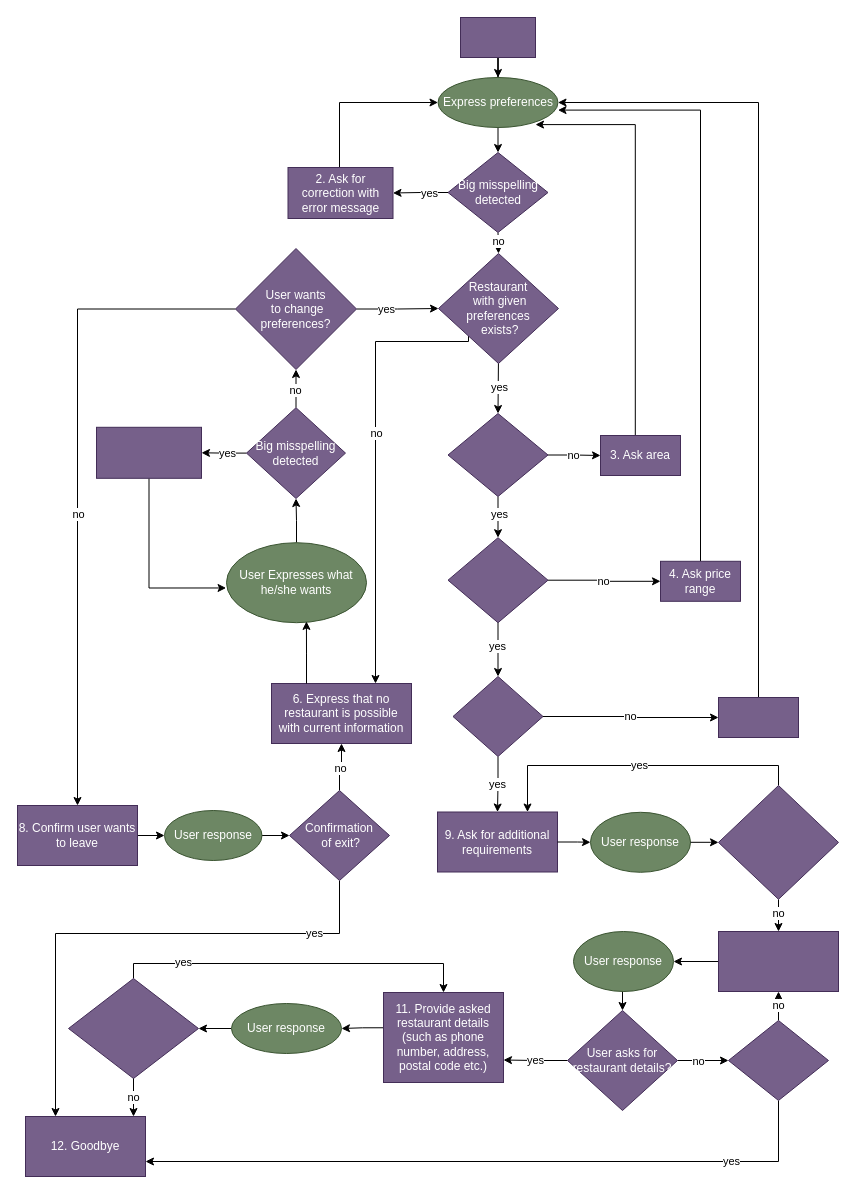
Some shapes in this 856 by 1194 pixel diagram are drawn without their labels. The shapes that lost their labels are listed below. From the top down, each one's box as (x1, y1, x2, y2) in pixels, then its label:
(460, 16, 536, 58): 1. Welcome
(96, 426, 202, 478): 7. Ask for correction with error message
(447, 412, 548, 496): Area expressed?
(447, 537, 548, 623): Price range expressed?
(452, 676, 543, 756): Food type expressed?
(718, 696, 798, 738): 5. Ask food type
(718, 784, 838, 899): No restaurant fits additional requirements ?
(718, 930, 838, 992): 10. Suggest all suitable Restaurant
(68, 978, 198, 1078): Request that still needs to be handled?
(728, 1020, 828, 1100): User wants to leave?
